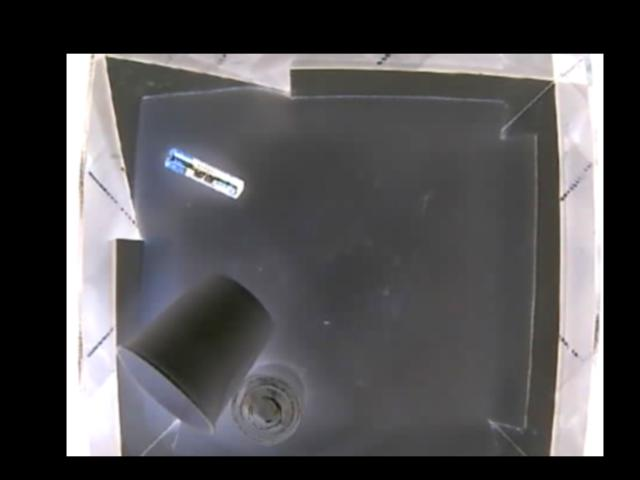Battery: (165, 150, 245, 196)
Bottle: (230, 359, 305, 440)
Cup: (121, 271, 272, 434)
